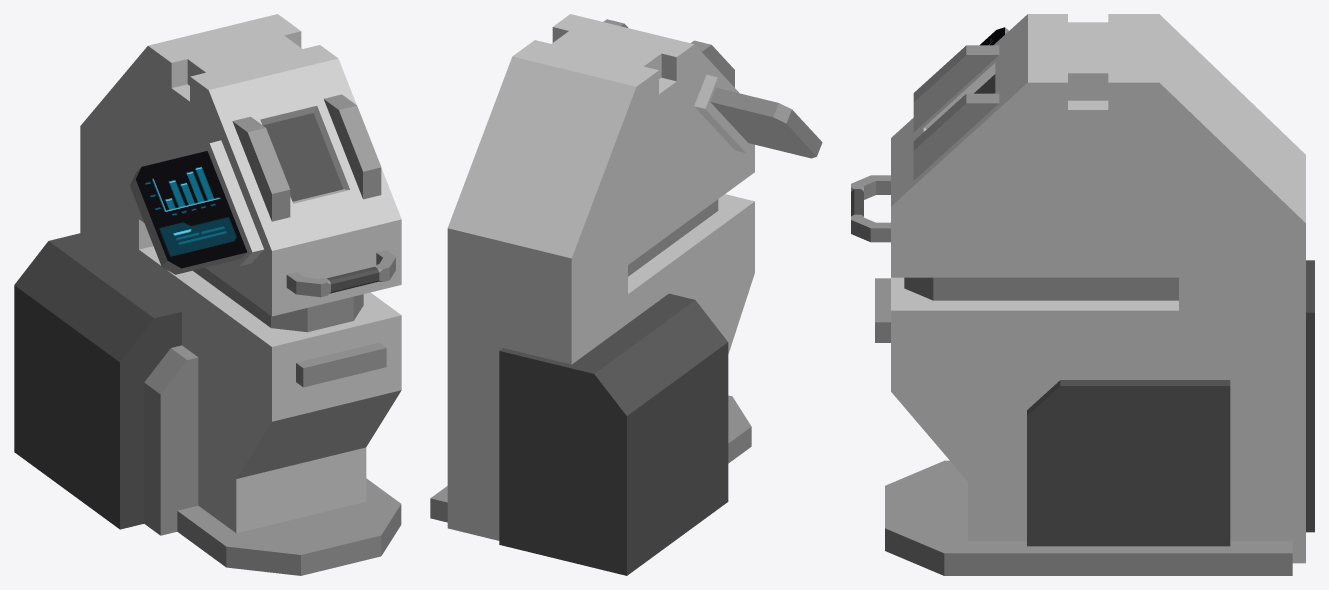
The model's file is SM_Machine_2.fbx.
The picture shows the model from 3 angles, left to right: view 1: azimuth 30°, elevation 25°; view 2: azimuth 150°, elevation 25°; view 3: azimuth 270°, elevation 25°; orthographic projection. The views are drawn at different scales.
Parts seen in each view (by area): view 1: SM_Machine_2; view 2: SM_Machine_2; view 3: SM_Machine_2.
Part boxes in pixels (x1,y1,x2,y2): SM_Machine_2: [14, 14, 401, 575]; SM_Machine_2: [430, 14, 822, 575]; SM_Machine_2: [851, 14, 1314, 575].
Bounding box in the file's own units: 72.75 × 128 × 112.
